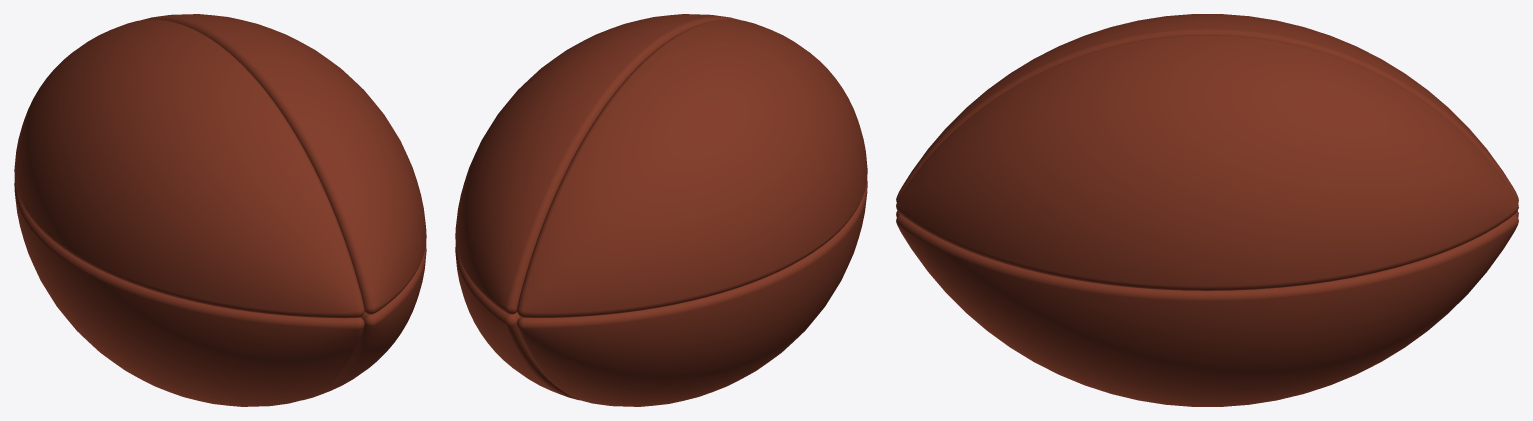
File: Football.glb
3 renders of one model, left to right at view 1: azimuth 30°, elevation 25°; view 2: azimuth 150°, elevation 25°; view 3: azimuth 270°, elevation 25°, orthographic. The views are drawn at different scales.
Parts seen in each view (by area): view 1: Football; view 2: Football; view 3: Football.
Boxes of the visible parts, x1,y1,x2,y2 form: Football: [14, 14, 426, 406]; Football: [455, 14, 867, 406]; Football: [896, 14, 1518, 406].
Size of the model in its own units: 4.94 by 4.94 by 7.82.
